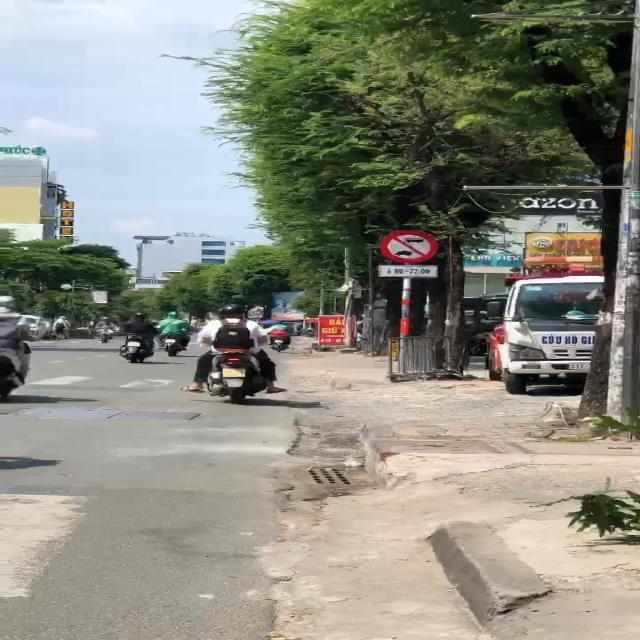Bien bao cam xe oto khach va xe oto tai: (375, 228, 442, 266)
